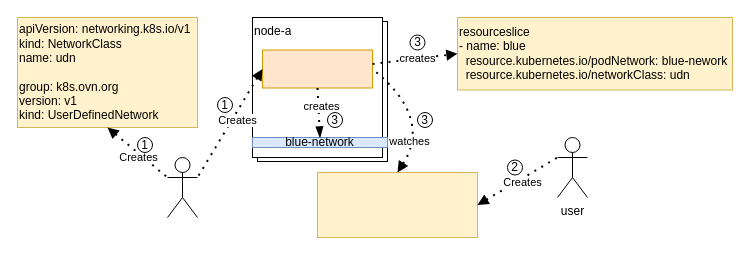
Image size: 750x256. Some labels were removed from this diagram. The centre of each missing label's shape, as x and y in pixels:
apiVersion: k8s.ovn.org/v1 kind: UserDefinedNetwork name: blue-network ...: [397,205]
Cluster Admin: [182,187]
ovn-kubernetes (DRA-Driver): [317,68]
